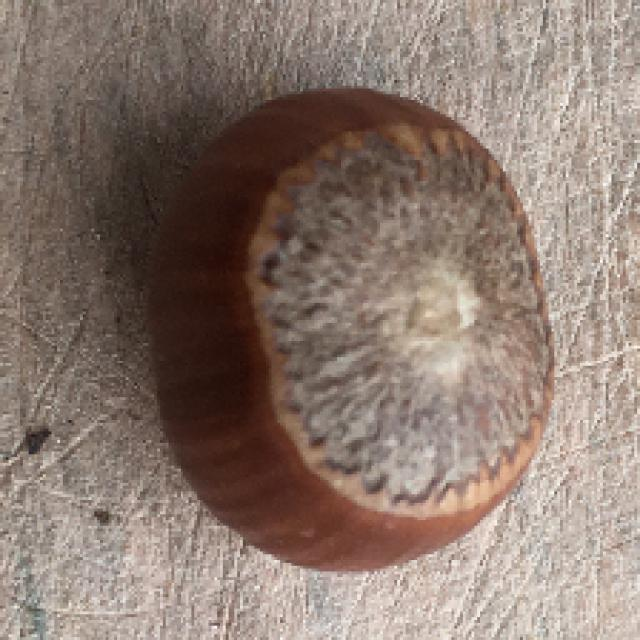damagedHazelnut: (130, 70, 566, 576)
